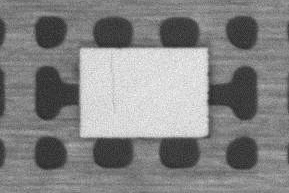DIE_CRACK: (110, 50, 116, 113)
